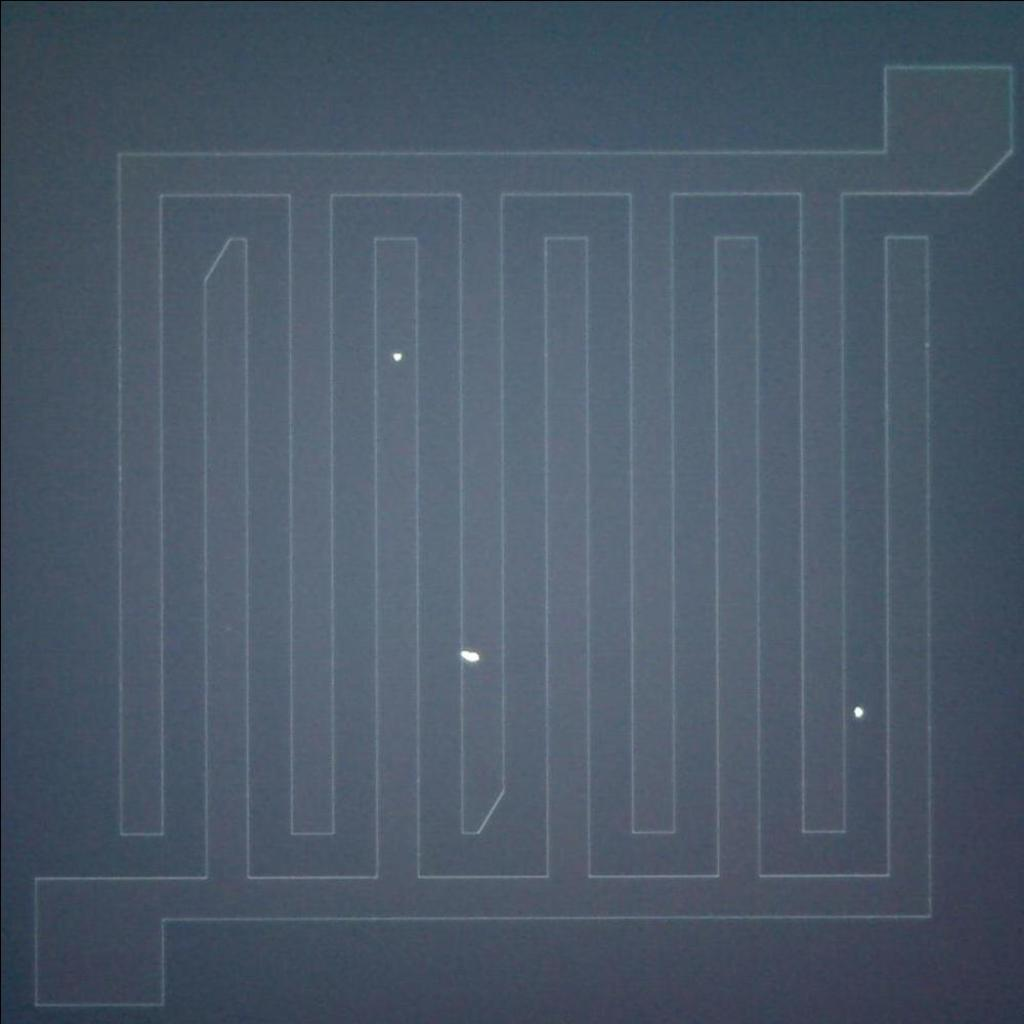edge circuit: (951, 139, 1020, 205), (195, 224, 255, 295), (448, 780, 514, 842)
spot: (454, 645, 488, 667), (841, 699, 868, 725), (386, 346, 409, 368)
